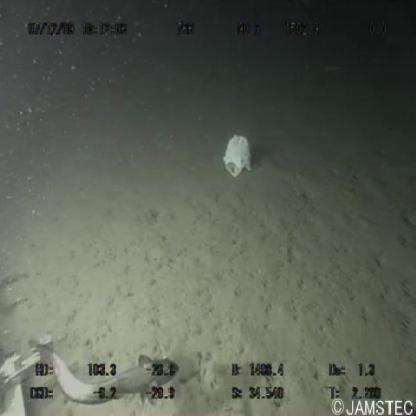Bio: (36, 334, 184, 414)
Rác: (221, 128, 255, 179)
